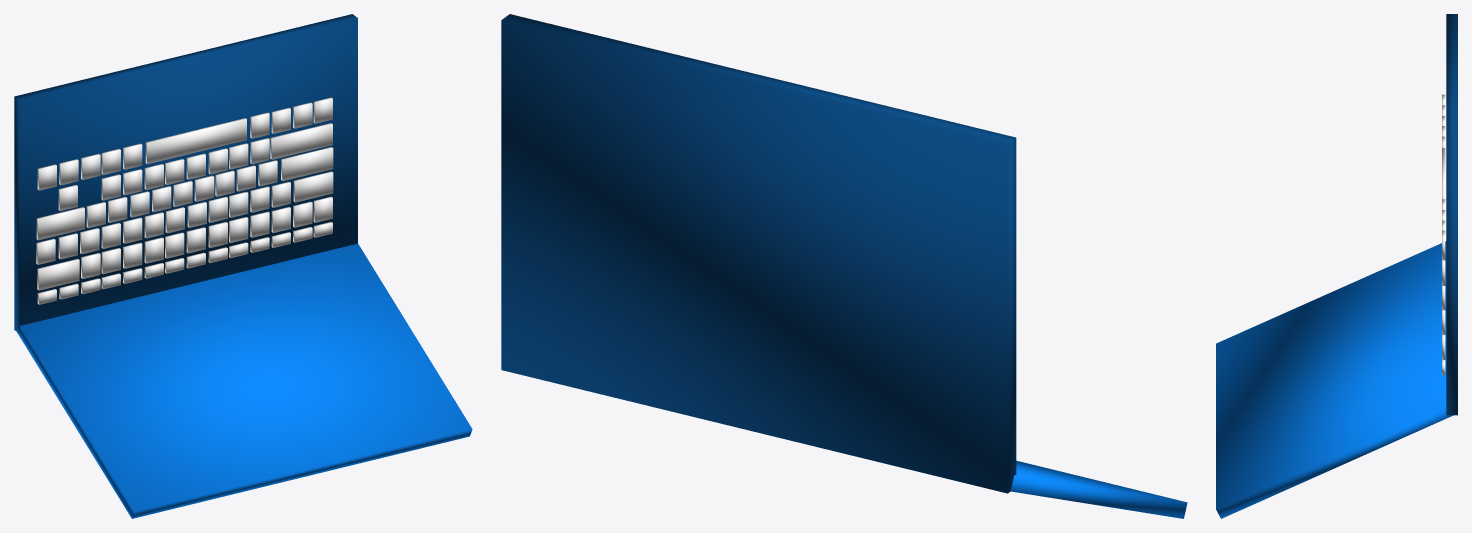
File: colored-laptop.gltf
3 views of the same model, side by side, from view 1: azimuth 30°, elevation 25°; view 2: azimuth 150°, elevation 25°; view 3: azimuth 270°, elevation 25° (orthographic). The views are drawn at different scales.
Bounding box in the file's own units: 88.12 × 83.82 × 54.2.
